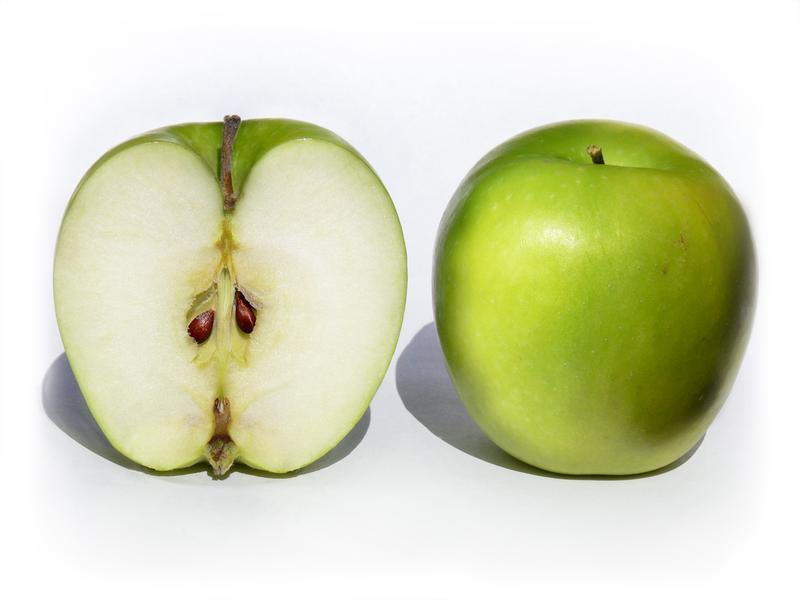apple: (427, 96, 767, 489)
